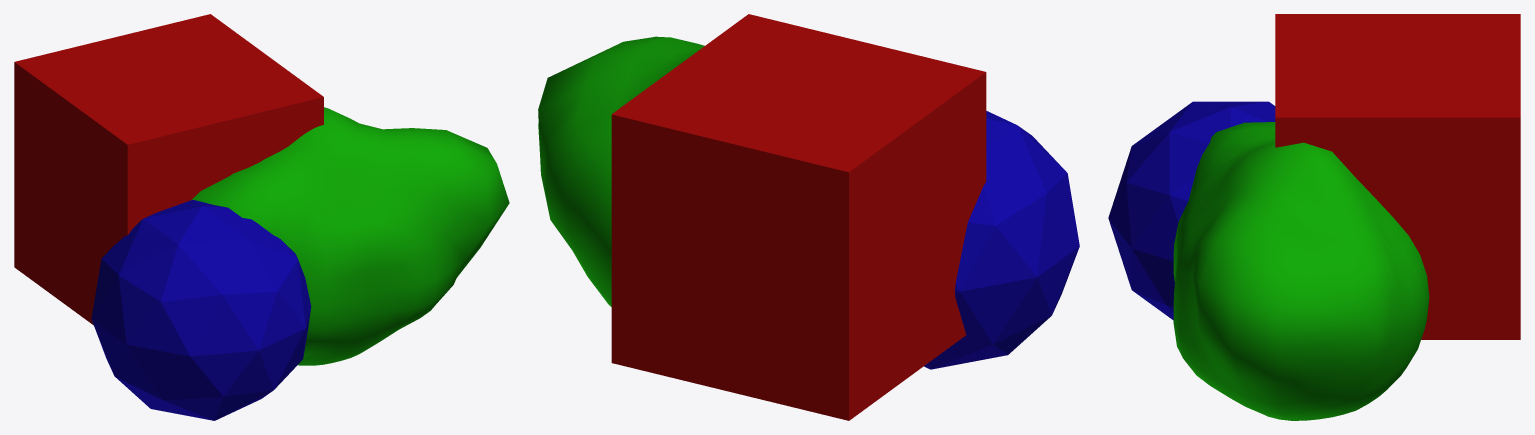
File: combined_model.obj
3 renders of one model, left to right at view 1: azimuth 30°, elevation 25°; view 2: azimuth 150°, elevation 25°; view 3: azimuth 270°, elevation 25°, orthographic. The views are drawn at different scales.
Parts seen in each view (by area): view 1: Cube.001, Sphere, Icosphere; view 2: Cube.001, Icosphere, Sphere; view 3: Sphere, Cube.001, Icosphere.
Part boxes in pixels (x1,y1,x2,y2): Cube.001: (14,14,323,325); Sphere: (191,107,509,365); Icosphere: (91,200,311,420); Cube.001: (611,14,986,420); Icosphere: (924,111,1079,369); Sphere: (538,36,704,306); Sphere: (1173,122,1429,420); Cube.001: (1275,14,1520,339); Icosphere: (1108,101,1275,320).
Bounding box in the file's own units: 4.16 × 2.62 × 3.36.
